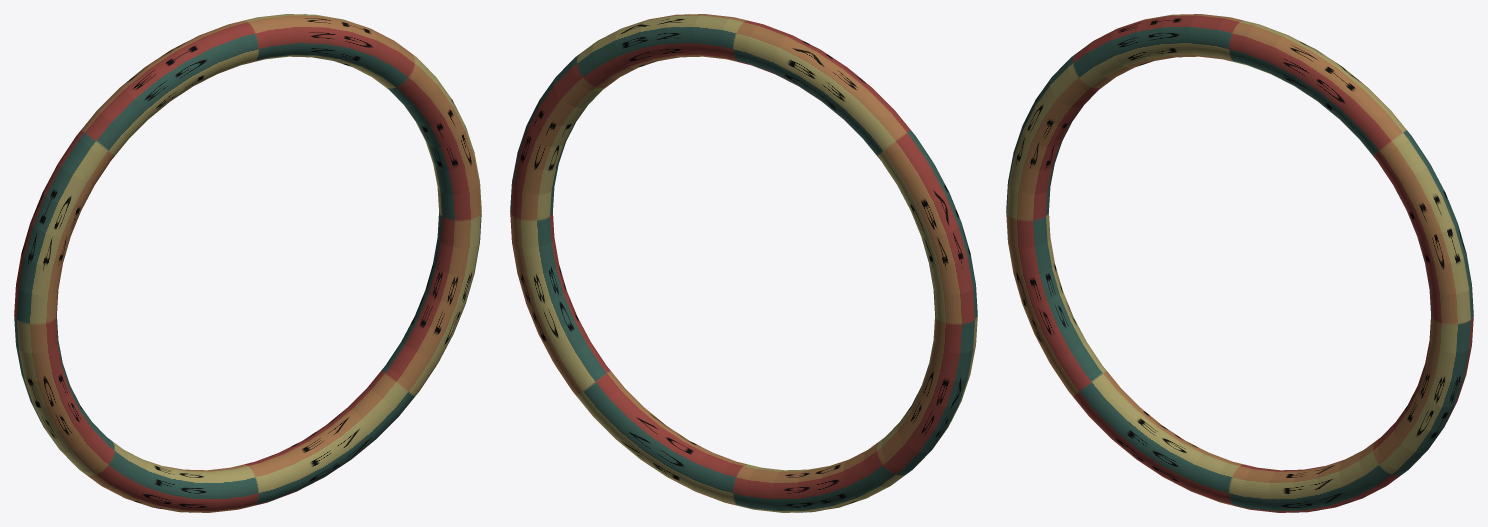
Rendered from texture_torus_R24_r1.glb.
The picture shows the model from 3 angles, left to right: view 1: azimuth 30°, elevation 25°; view 2: azimuth 150°, elevation 25°; view 3: azimuth 330°, elevation 25°; orthographic projection.
Visible parts, largest first — view 1: world; view 2: world; view 3: world.
Part boxes in pixels (<box>): world: <box>14,14,481,512</box>; world: <box>510,14,977,512</box>; world: <box>1006,14,1473,512</box>.
Bounding box in the file's own units: 28.27 × 28.21 × 2.26.
1 material, 1 textured.
